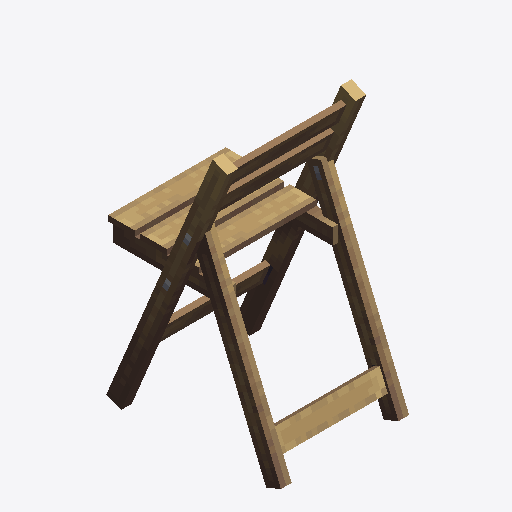
Isometric view (azimuth 45°, elevation 35.3°) of a Minecraft model made of 13 cuboids, textured from the same repository.
Visible parts, largest first — back_leg (×2), front_leg (×2), seat_frame (×3), front_top_crosspiece (×2), back_bottom_crosspiece, seat_side_rail (×2), front_bottom_crosspiece.
Boxes of the visible parts, x1=… form: back_leg (×2): x1=196, y1=156, x2=408, y2=488; front_leg (×2): x1=106, y1=79, x2=365, y2=409; seat_frame (×3): x1=108, y1=147, x2=316, y2=272; front_top_crosspiece (×2): x1=219, y1=100, x2=345, y2=211; back_bottom_crosspiece: x1=274, y1=366, x2=387, y2=453; seat_side_rail (×2): x1=113, y1=206, x2=337, y2=297; front_bottom_crosspiece: x1=160, y1=260, x2=269, y2=341.
Bounding box in the file's own units: 13 × 24.59 × 16.67.